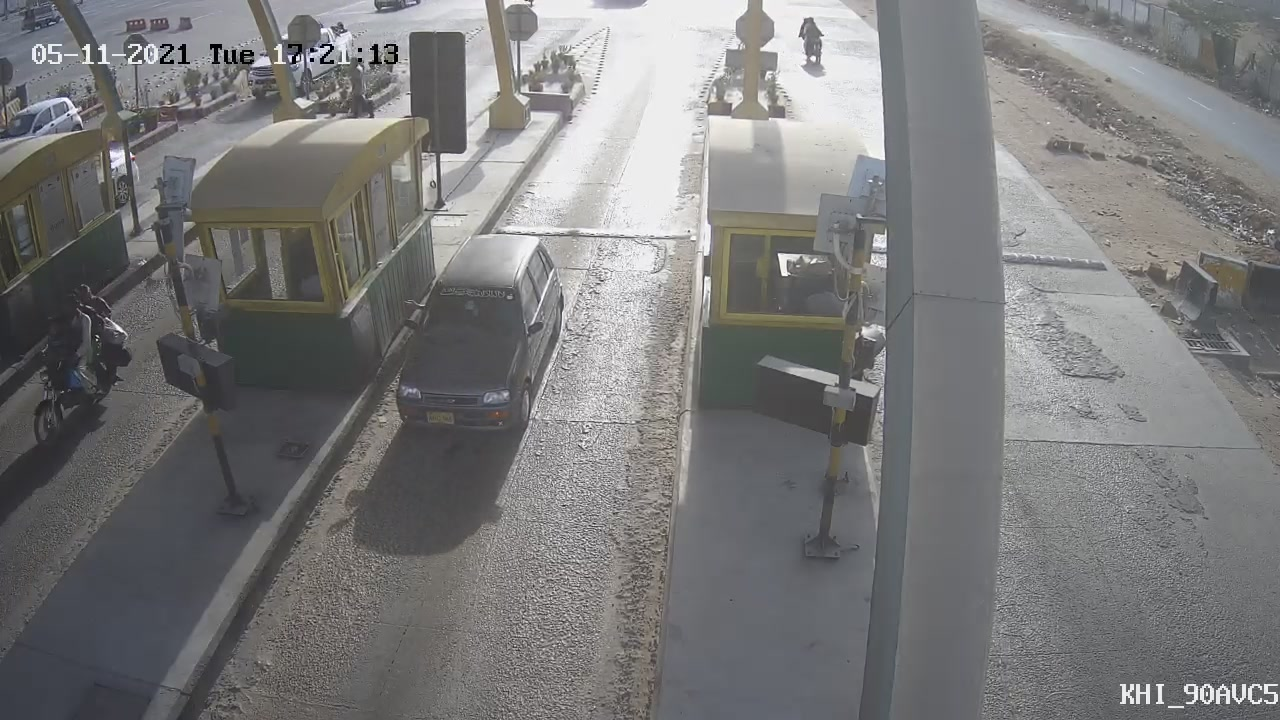F1: (372, 209, 591, 459)
